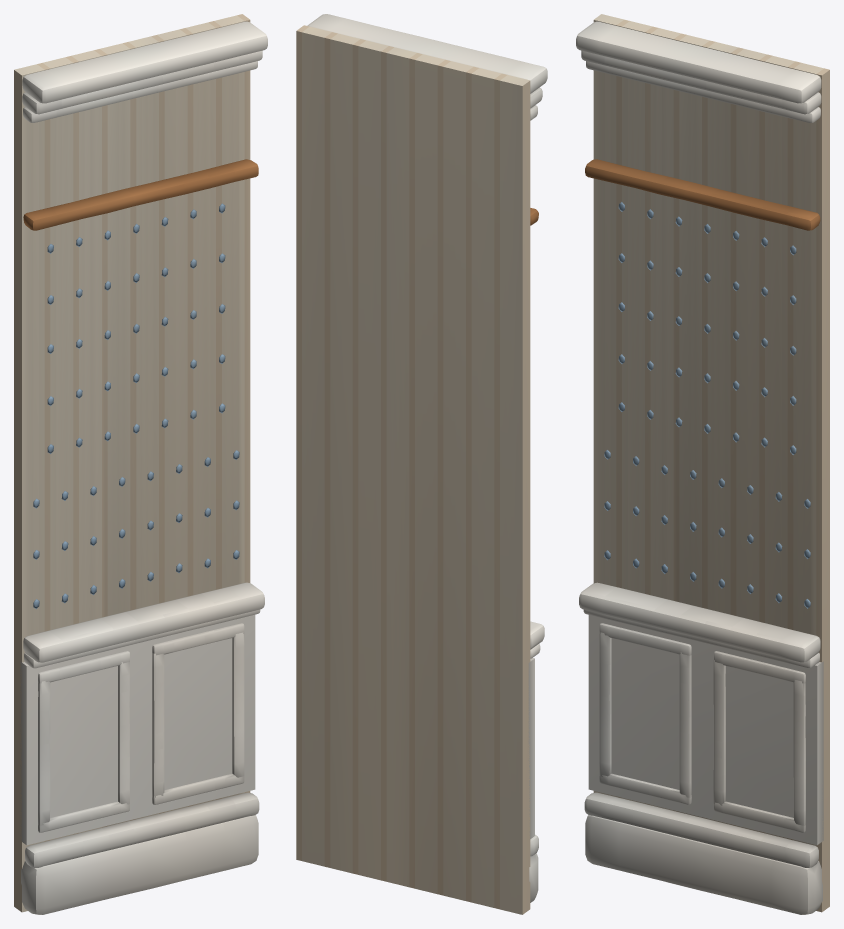
The model's file is frost_wall_panel.glb.
3 renders of one model, left to right at view 1: azimuth 30°, elevation 25°; view 2: azimuth 150°, elevation 25°; view 3: azimuth 330°, elevation 25°, orthographic.
Visible parts, largest first — view 1: frost_wall_panel; view 2: frost_wall_panel; view 3: frost_wall_panel.
Boxes of the visible parts, bbox=[...] form: frost_wall_panel: bbox=[14, 14, 267, 914]; frost_wall_panel: bbox=[296, 14, 547, 914]; frost_wall_panel: bbox=[576, 14, 829, 914].
Size of the model in its own units: 20.04 by 70.02 by 4.2.
